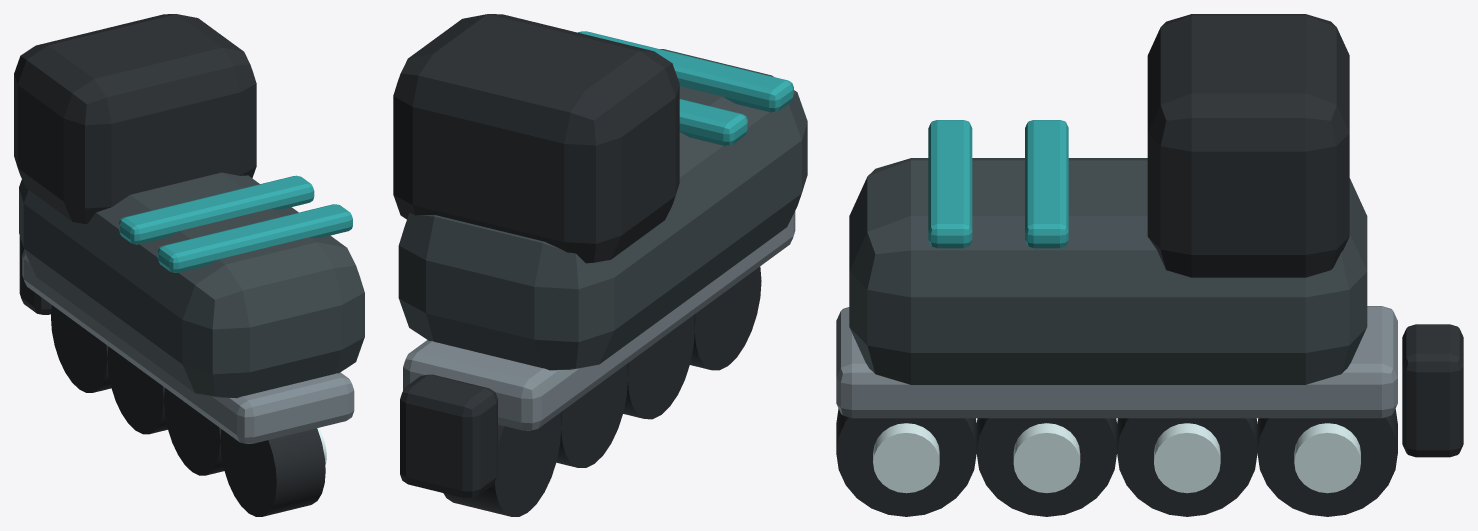
The model's file is DS_InlineSkate_01.glb.
3 renders of one model, left to right at view 1: azimuth 30°, elevation 25°; view 2: azimuth 150°, elevation 25°; view 3: azimuth 270°, elevation 25°, orthographic. The views are drawn at different scales.
Parts seen in each view (by area): view 1: Skate_boot, Skate_cuff, Skate_frame, Inline_wheel.003, Skate_buckle.002, Skate_buckle.001, Inline_wheel.002, Inline_wheel.001, Inline_wheel, Heel_brake; view 2: Skate_cuff, Skate_boot, Skate_frame, Heel_brake, Inline_wheel, Inline_wheel.003, Inline_wheel.001, Inline_wheel.002, Skate_buckle.002, Skate_buckle.001; view 3: Skate_boot, Skate_cuff, Skate_frame, Inline_wheel, Inline_wheel.003, Inline_wheel.001, Inline_wheel.002, Heel_brake, Skate_buckle.002, Skate_buckle.001, Inline_hub.002, Inline_hub.003 (+2 smaller).
Part boxes in pixels (x1,y1,x2,y2): Skate_boot: (19,172,364,398); Skate_cuff: (14,14,256,224); Skate_frame: (22,250,354,443); Inline_wheel.003: (220,428,325,516); Skate_buckle.002: (157,204,352,272); Skate_buckle.001: (119,175,314,244); Inline_wheel.002: (164,388,224,475); Inline_wheel.001: (107,346,167,434); Inline_wheel: (51,305,111,392); Heel_brake: (19,236,51,314); Skate_cuff: (393,14,679,263); Skate_boot: (398,49,807,370); Skate_frame: (403,211,795,430); Heel_brake: (400,374,497,498); Inline_wheel: (443,413,561,516); Inline_wheel.003: (690,266,761,370); Inline_wheel.001: (556,364,627,467); Inline_wheel.002: (623,315,694,419); Skate_buckle.002: (578,31,793,112); Skate_buckle.001: (679,99,747,145); Skate_boot: (849,158,1367,384); Skate_cuff: (1147,14,1349,277); Skate_frame: (836,306,1397,418); Inline_wheel: (1257,409,1397,516); Inline_wheel.003: (836,408,976,516); Inline_wheel.001: (1117,418,1257,516); Inline_wheel.002: (976,418,1116,516); Heel_brake: (1402,324,1463,457); Skate_buckle.002: (928,120,972,248); Skate_buckle.001: (1025,120,1068,248); Inline_hub.002: (1013,423,1080,493); Inline_hub.003: (873,423,939,493).
Bounding box in the file's own units: 0.155 × 0.2815 × 0.3575.
